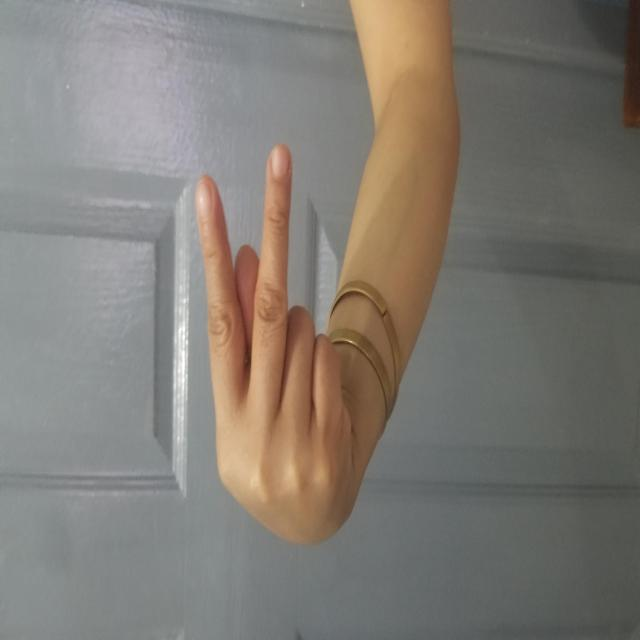K: (92, 192, 500, 362)
